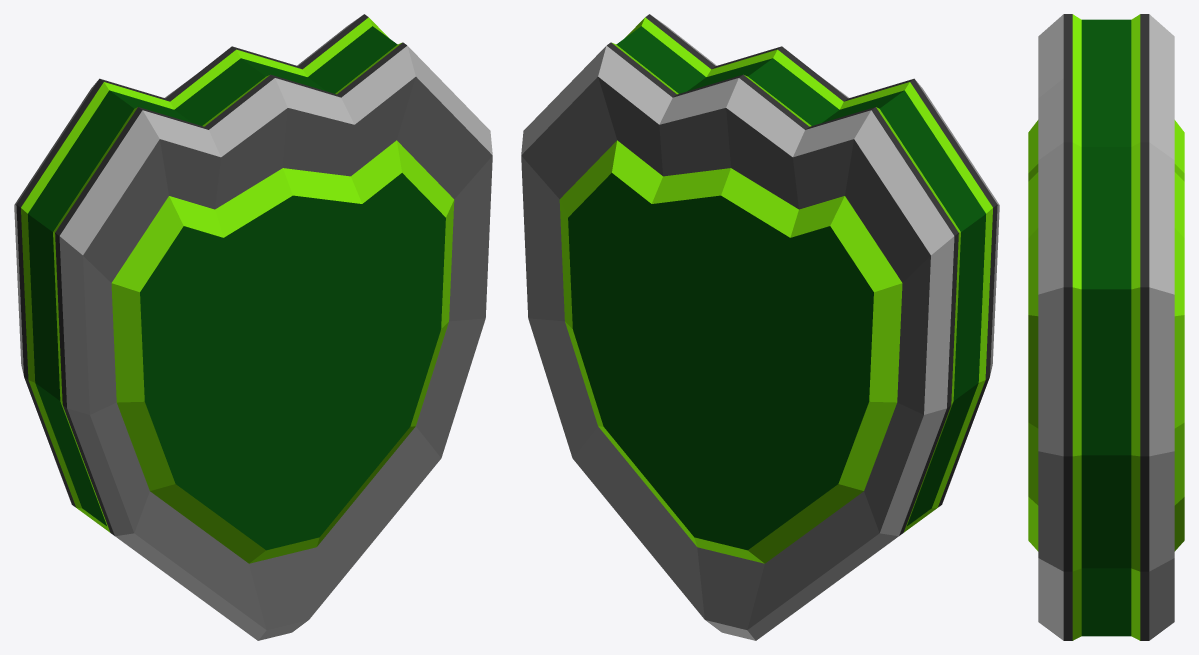
File: Shield.fbx
The picture shows the model from 3 angles, left to right: view 1: azimuth 30°, elevation 25°; view 2: azimuth 150°, elevation 25°; view 3: azimuth 270°, elevation 25°; orthographic projection.
Visible parts, largest first — view 1: Cube.003; view 2: Cube.003; view 3: Cube.003.
Boxes of the visible parts, bbox=[...] form: Cube.003: bbox=[14, 14, 492, 640]; Cube.003: bbox=[521, 14, 999, 640]; Cube.003: bbox=[1028, 14, 1184, 640].
Size of the model in its own units: 714 by 885 by 227.
